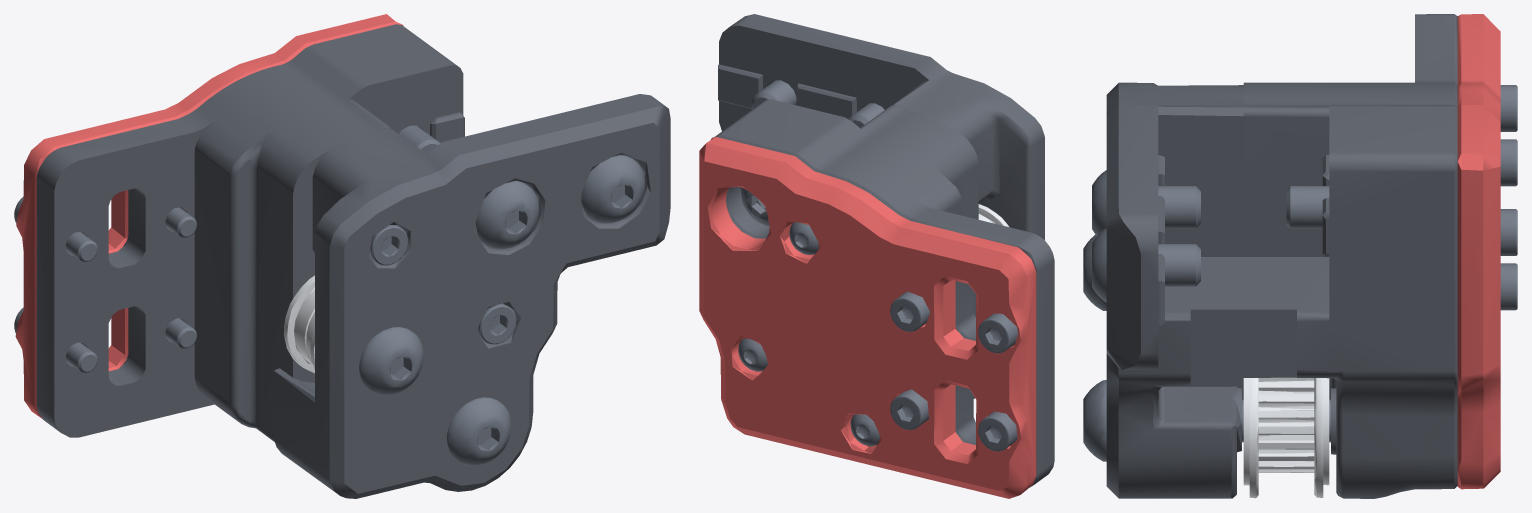
3 views of the same model, side by side, from view 1: azimuth 30°, elevation 25°; view 2: azimuth 150°, elevation 25°; view 3: azimuth 270°, elevation 25° (orthographic). The views are drawn at different scales.
Visible parts, largest first — view 1: xy_left_lower, xy_left_upper, [a]_xy_left, m5x40_bhcs, m5x40_bhcs_8, m5x10_bhcs__3__2, m5x10_bhcs__3_, f695_zz__3__24, m3x40_shcs__2_, m3x40_shcs__2__13, m3x16_shcs__2_, m3x16_shcs__2__5; view 2: [a]_xy_left, xy_left_lower, xy_left_upper, m3x16_shcs__2_, m3x16_shcs__2__5, m3x16_shcs__2__3, m3x16_shcs__2__4, m5x10_bhcs__3__2, m3x6_bhcs__2__11, m3x6_bhcs__2__10, m3x6_bhcs__2_, m5x16_bhcs__2_ (+1 smaller); view 3: xy_left_lower, xy_left_upper, [a]_xy_left, gt2_20t_idler__1_, gt2_20t_idler_gates__1_, m5x10_bhcs__3__2, m5x10_bhcs__3_, m5x40_bhcs_8, m5x16_bhcs__2_, m3x16_shcs__2__3, m3x16_shcs__2__4, m3x16_shcs__2_ (+2 smaller).
Part boxes in pixels (box(x1,y1,x2,y2)): xy_left_lower: box(36, 24, 464, 441); xy_left_upper: box(274, 94, 670, 498); [a]_xy_left: box(15, 14, 403, 418); m5x40_bhcs: box(359, 327, 423, 395); m5x40_bhcs_8: box(447, 397, 511, 465); m5x10_bhcs__3__2: box(581, 155, 645, 223); m5x10_bhcs__3_: box(475, 181, 538, 249); f695_zz__3__24: box(283, 275, 314, 373); m3x40_shcs__2_: box(478, 303, 516, 344); m3x40_shcs__2__13: box(370, 225, 408, 265); m3x16_shcs__2_: box(14, 196, 97, 261); m3x16_shcs__2__5: box(14, 307, 97, 372); [a]_xy_left: box(699, 137, 1036, 498); xy_left_lower: box(715, 99, 1054, 487); xy_left_upper: box(718, 14, 1044, 239); m3x16_shcs__2_: box(978, 313, 1018, 353); m3x16_shcs__2__5: box(978, 411, 1017, 451); m3x16_shcs__2__3: box(890, 291, 930, 331); m3x16_shcs__2__4: box(890, 389, 928, 429); m5x10_bhcs__3__2: box(751, 80, 796, 108); m3x6_bhcs__2__11: box(738, 338, 768, 371); m3x6_bhcs__2__10: box(789, 222, 818, 254); m3x6_bhcs__2_: box(850, 414, 880, 446); m5x16_bhcs__2_: box(740, 187, 769, 226); xy_left_lower: box(1243, 14, 1457, 498); xy_left_upper: box(1106, 82, 1243, 498); [a]_xy_left: box(1457, 14, 1500, 489); gt2_20t_idler__1_: box(1249, 378, 1323, 498); gt2_20t_idler_gates__1_: box(1243, 377, 1329, 485); m5x10_bhcs__3__2: box(1092, 228, 1200, 302); m5x10_bhcs__3_: box(1092, 170, 1200, 235); m5x40_bhcs_8: box(1083, 380, 1330, 461); m5x16_bhcs__2_: box(1286, 186, 1329, 228); m3x16_shcs__2__3: box(1500, 139, 1517, 186); m3x16_shcs__2__4: box(1500, 263, 1517, 310); m3x16_shcs__2_: box(1500, 85, 1517, 131).
Bounding box in the file's own units: 0.0747 × 0.0488 × 0.0508.
